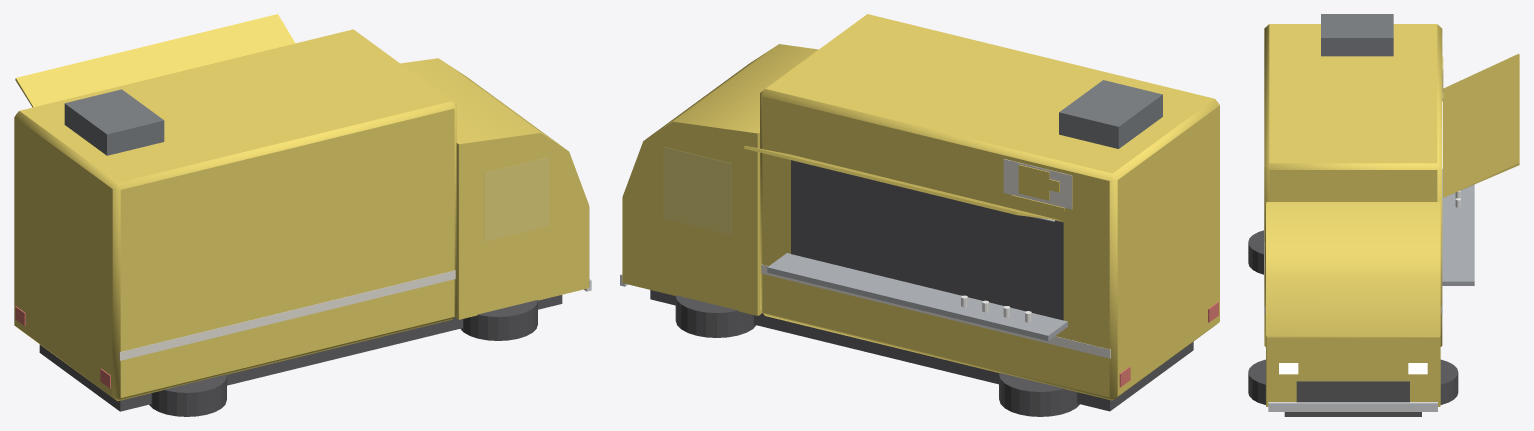
Rendered from food_truck.glb.
3 renders of one model, left to right at view 1: azimuth 30°, elevation 25°; view 2: azimuth 150°, elevation 25°; view 3: azimuth 270°, elevation 25°, orthographic. The views are drawn at different scales.
Parts seen in each view (by area): view 1: food_truck_truck_y, food_truck_steel_d, food_truck_rubber, food_truck_glass, food_truck_dark, food_truck_cream; view 2: food_truck_truck_y, food_truck_dark, food_truck_steel, food_truck_steel_d, food_truck_rubber, food_truck_glass, food_truck_cream; view 3: food_truck_truck_y, food_truck_dark, food_truck_steel_d, food_truck_steel, food_truck_rubber, food_truck_chrome, food_truck_lamp_glass.
Boxes of the visible parts, x1=… form: food_truck_truck_y: x1=14, y1=14, x2=589, y2=401; food_truck_steel_d: x1=64, y1=89, x2=164, y2=155; food_truck_rubber: x1=149, y1=300, x2=537, y2=416; food_truck_glass: x1=484, y1=158, x2=548, y2=240; food_truck_dark: x1=39, y1=295, x2=562, y2=411; food_truck_cream: x1=119, y1=270, x2=455, y2=360; food_truck_truck_y: x1=622, y1=14, x2=1219, y2=400; food_truck_dark: x1=650, y1=160, x2=1193, y2=411; food_truck_steel: x1=767, y1=253, x2=1067, y2=340; food_truck_steel_d: x1=1059, y1=80, x2=1162, y2=148; food_truck_rubber: x1=675, y1=295, x2=1079, y2=416; food_truck_glass: x1=664, y1=147, x2=731, y2=234; food_truck_cream: x1=761, y1=159, x2=1110, y2=358; food_truck_truck_y: x1=1264, y1=24, x2=1519, y2=406; food_truck_dark: x1=1284, y1=381, x2=1421, y2=416; food_truck_steel_d: x1=1321, y1=14, x2=1393, y2=56; food_truck_steel: x1=1442, y1=169, x2=1474, y2=285; food_truck_rubber: x1=1248, y1=230, x2=1458, y2=404; food_truck_chrome: x1=1268, y1=402, x2=1437, y2=411; food_truck_lamp_glass: x1=1279, y1=363, x2=1427, y2=374.
Bounding box in the file's own units: 5.85 × 3.17 × 3.36.
